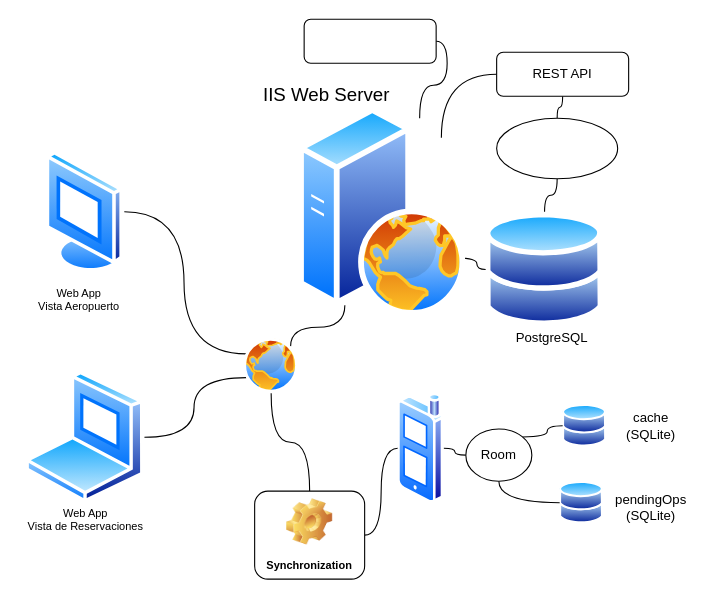
Some shapes in this 714 by 598 pixel diagram are drawn without their labels. The shapes that lost their labels are listed below. From the top down, each one's centre as x and y in pixels, then its label:
point (369, 40): WebApp
point (557, 148): EntityFramework
